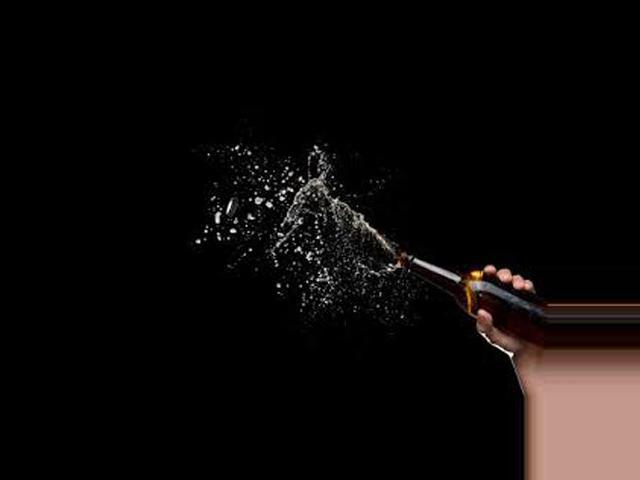beer: (400, 250, 549, 351)
